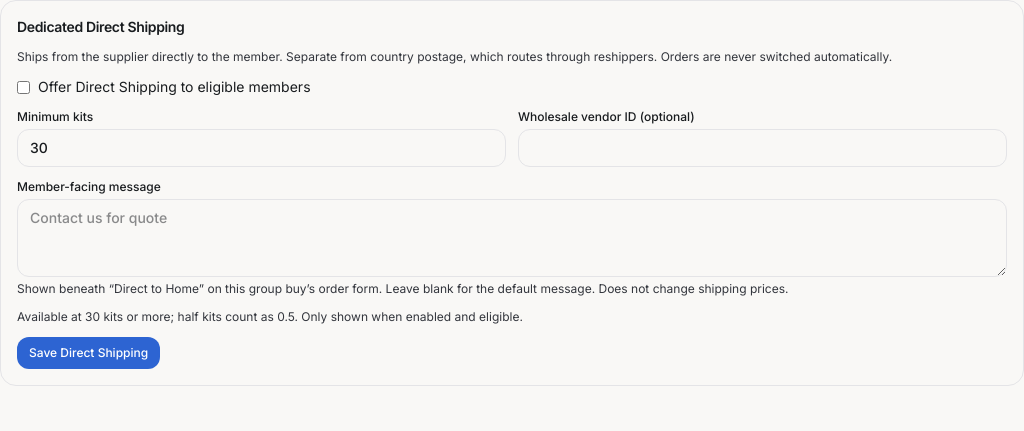
saves a dedicated direct route with its 30-kit floor, without altering postage options
Expected: the number field labelled "Minimum kits" holds "30", [17,129,506,167]
Click the checkbox labelled "Offer Direct Shipping to eligible members" at (24, 87), box [17,80,30,94]
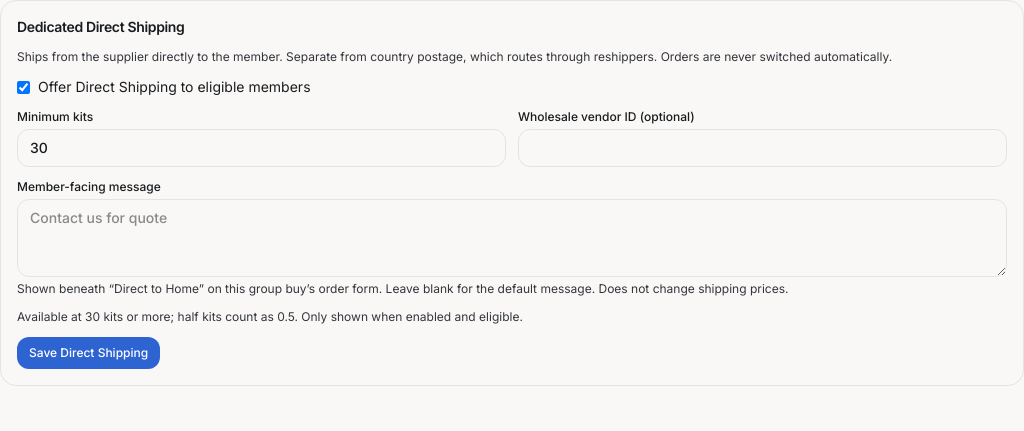
Click the button "Save Direct Shipping" at (89, 353), box [17,337,160,369]
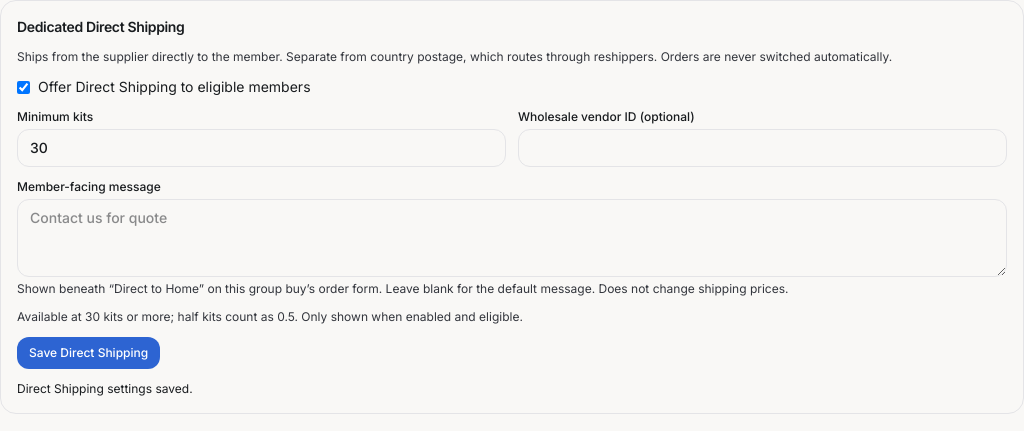
Expected: the text "settings saved" is shown, [17,381,193,396]
